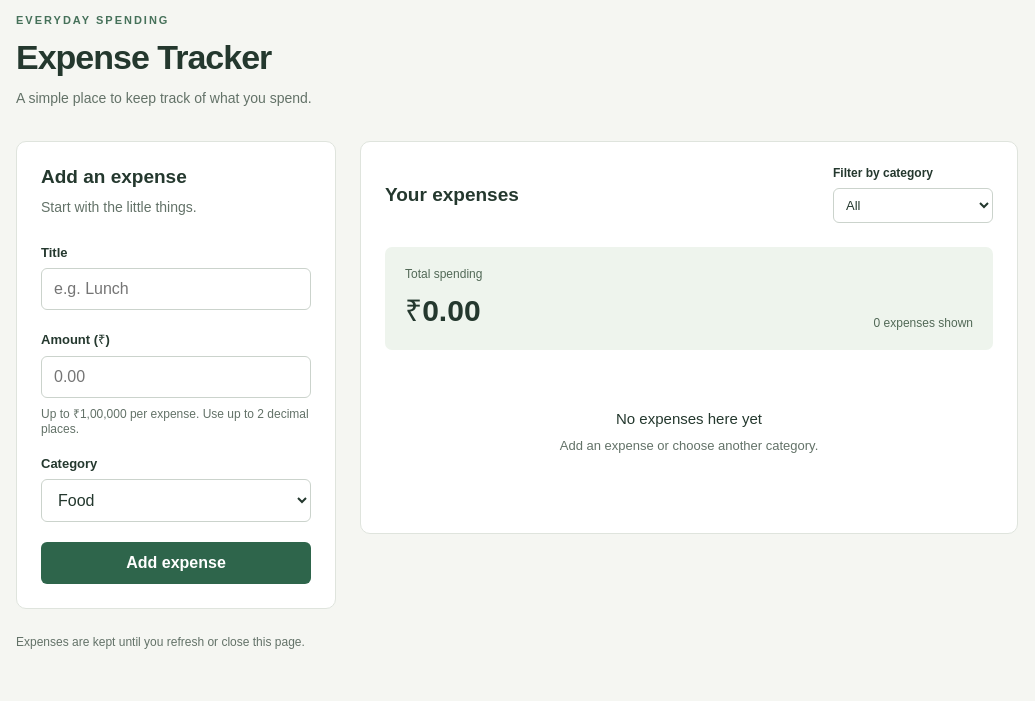
Scenario: expense tracker › does not add invalid amount 0
Type "Lunch" into the field labelled "Title". click: (176, 289)
box: [41,268,311,310]
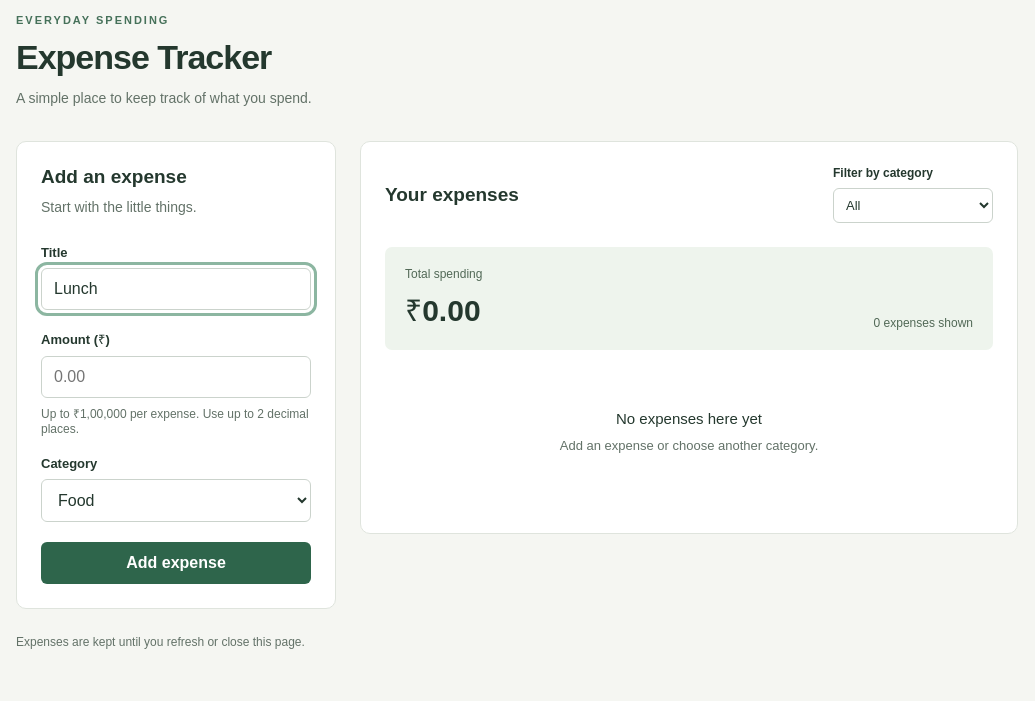
Type "0" into the field labelled "Amount (₹)". click: (176, 377)
box: [41,356,311,398]
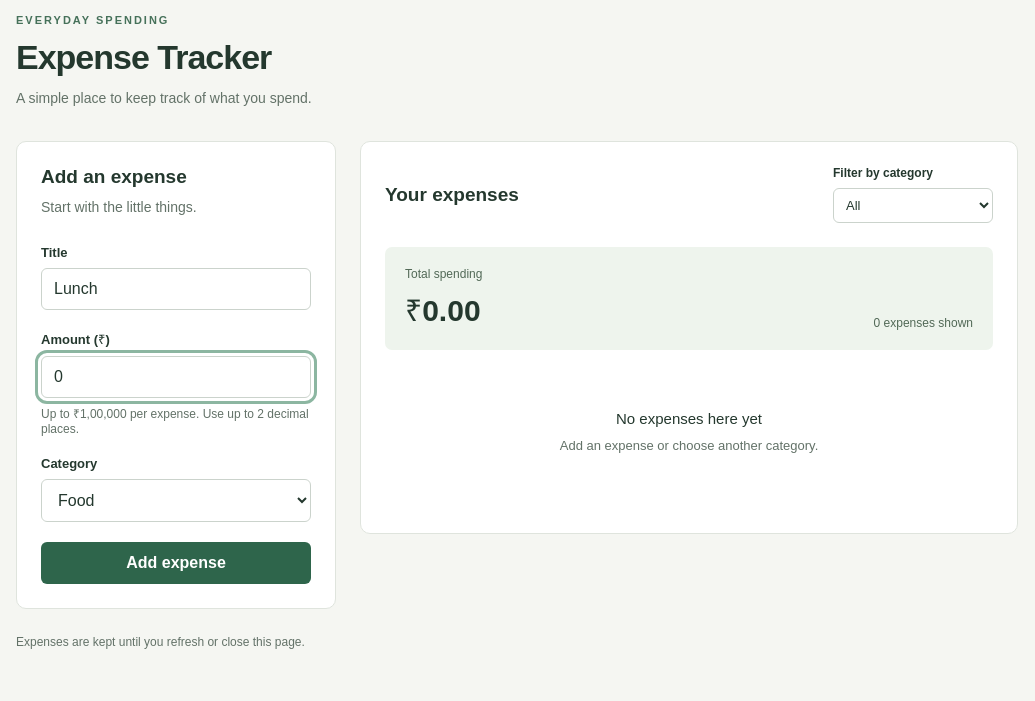
Select "Food" in the dropdown labelled "Category". click: (176, 500)
box: [41,479,311,522]
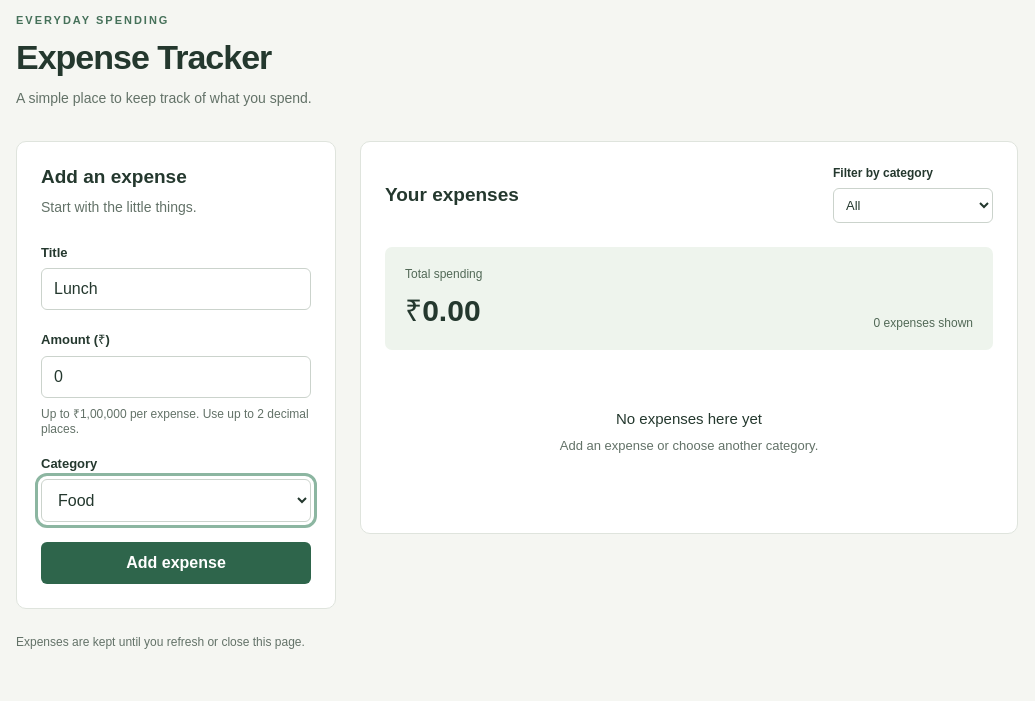
Click the button "Add expense". click: (176, 563)
box: [41,542,311,584]
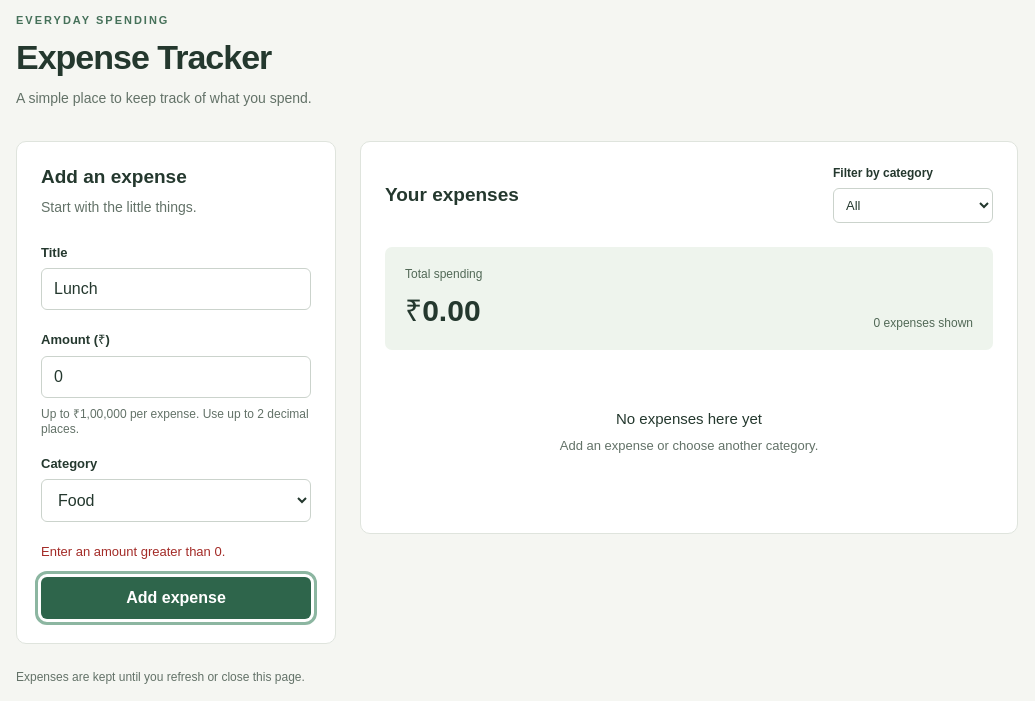
Expected: the text "₹0.00" is shown, [405,289,482,330]
Now the message "Enter an amount greater than 0." is shown, box [41,544,225,559]
